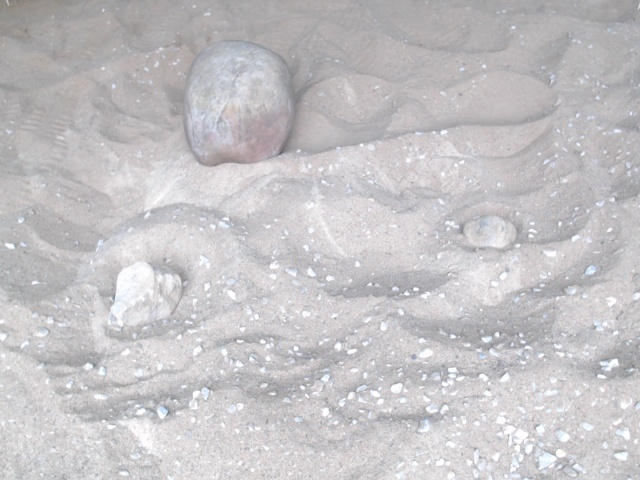rock: (177, 36, 300, 171), (102, 255, 188, 336), (457, 212, 522, 255)
